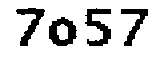5: (81, 4, 115, 52)
7: (11, 5, 46, 51), (118, 6, 154, 49)
o: (48, 16, 79, 51)
